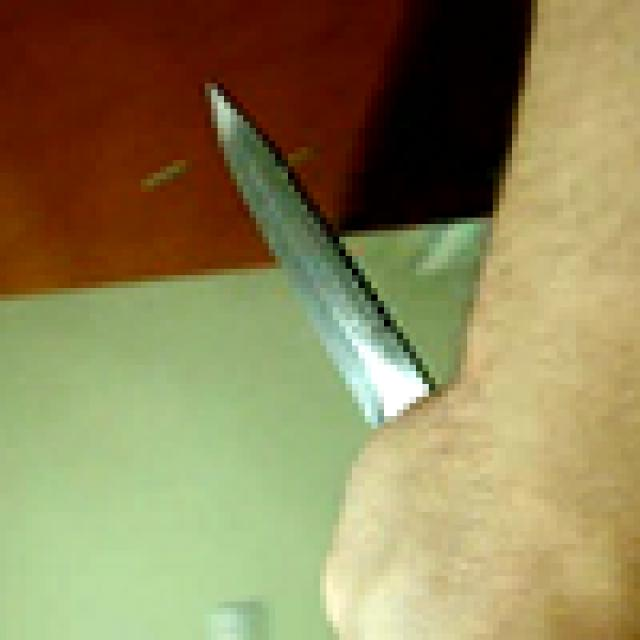Knife: (180, 58, 454, 448)
